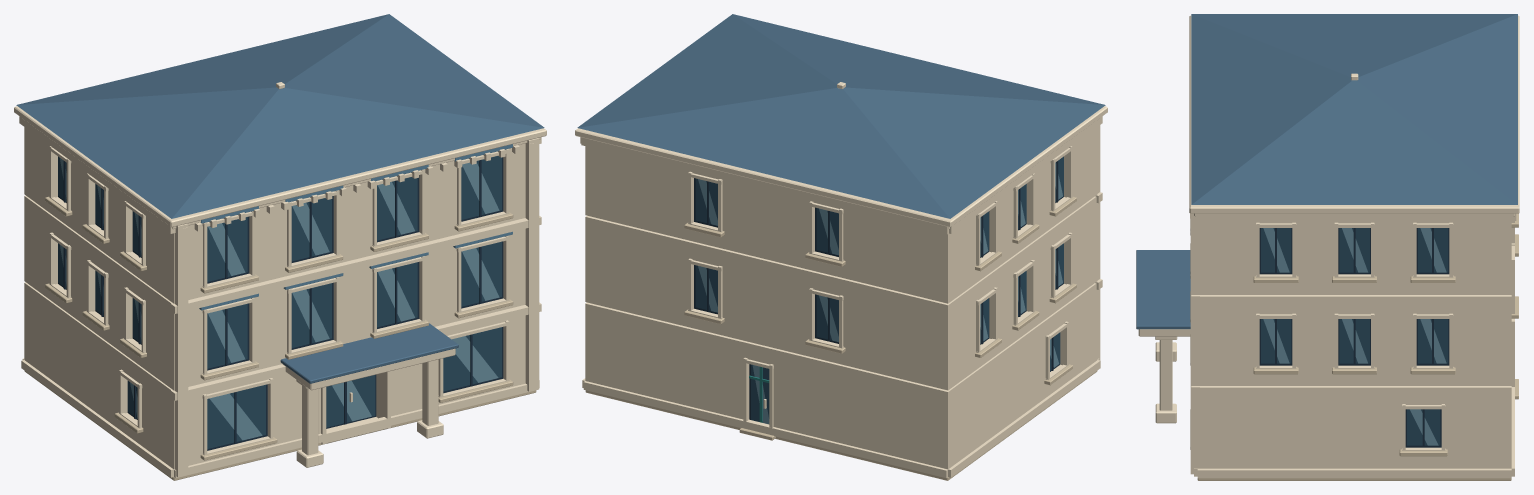
The model's file is capped_civic_office.glb.
3 renders of one model, left to right at view 1: azimuth 30°, elevation 25°; view 2: azimuth 150°, elevation 25°; view 3: azimuth 270°, elevation 25°, orthographic. The views are drawn at different scales.
Parts seen in each view (by area): view 1: CappedCivicOffice_StaticMesh; view 2: CappedCivicOffice_StaticMesh; view 3: CappedCivicOffice_StaticMesh.
Boxes of the visible parts, x1,y1,x2,y2 form: CappedCivicOffice_StaticMesh: [14, 14, 546, 480]; CappedCivicOffice_StaticMesh: [575, 14, 1107, 480]; CappedCivicOffice_StaticMesh: [1136, 14, 1519, 480].
Size of the model in its own units: 14.52 by 11.01 by 12.22.
